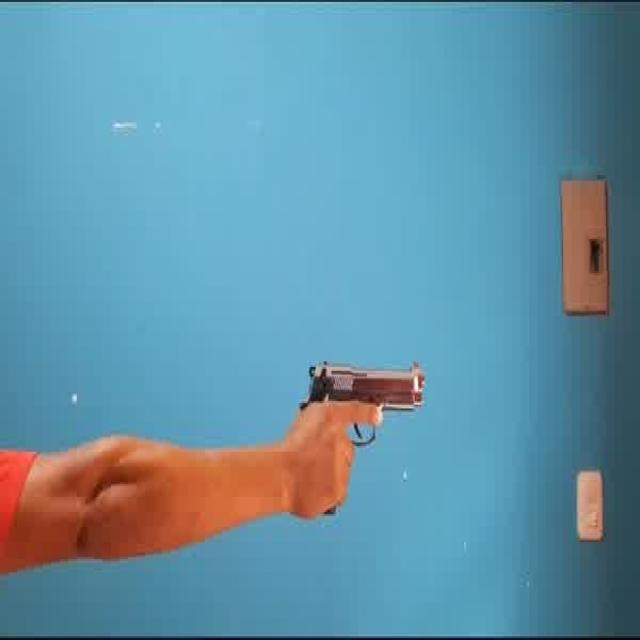weapon: (294, 358, 426, 524)
